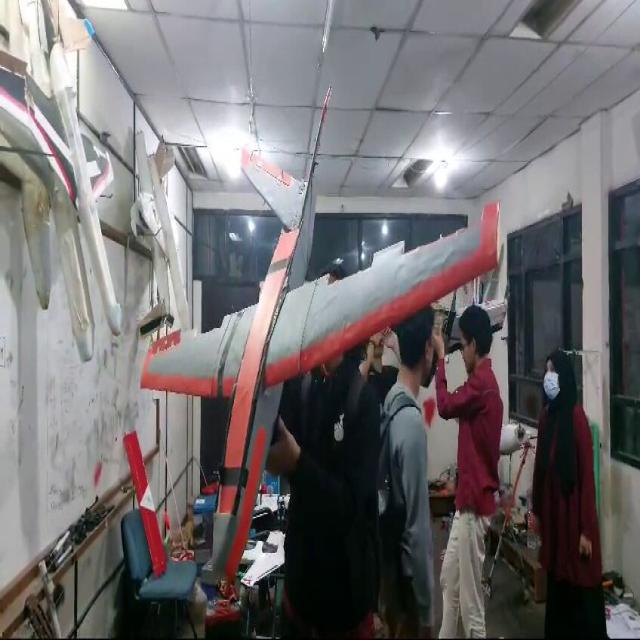plane: (137, 83, 504, 588)
